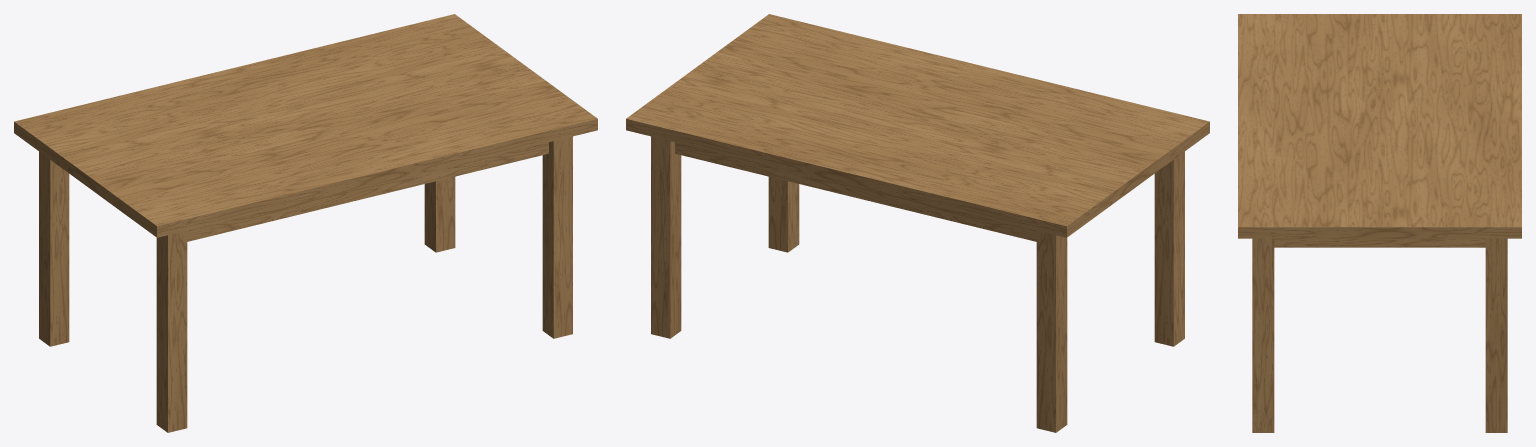
3 renders of one model, left to right at view 1: azimuth 30°, elevation 25°; view 2: azimuth 150°, elevation 25°; view 3: azimuth 270°, elevation 25°, orthographic.
Visible parts, largest first — view 1: DiningTable_Game; view 2: DiningTable_Game; view 3: DiningTable_Game.
Boxes of the visible parts, x1,y1,x2,y2 form: DiningTable_Game: (14,14,597,432); DiningTable_Game: (626,14,1209,432); DiningTable_Game: (1238,14,1521,432).
Size of the model in its own units: 1.6 by 0.75 by 0.9.
Materials: 1 (1 with a texture image).
